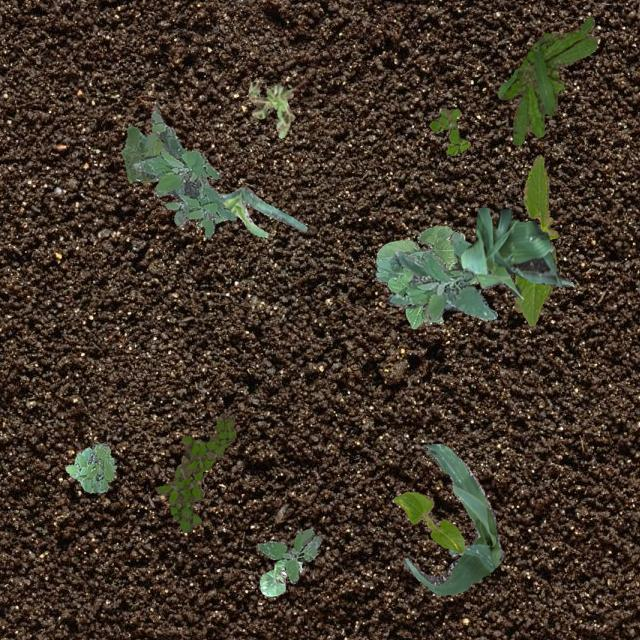crop: (402, 442, 502, 594), (374, 225, 478, 328), (458, 206, 574, 298), (512, 154, 556, 324), (214, 186, 306, 236), (392, 491, 464, 552), (258, 558, 300, 596)
weed: (132, 107, 236, 235), (496, 15, 596, 144), (386, 230, 496, 320), (154, 412, 233, 530), (256, 526, 321, 582), (246, 76, 294, 138), (64, 442, 116, 492), (120, 124, 163, 180), (428, 106, 469, 154)
